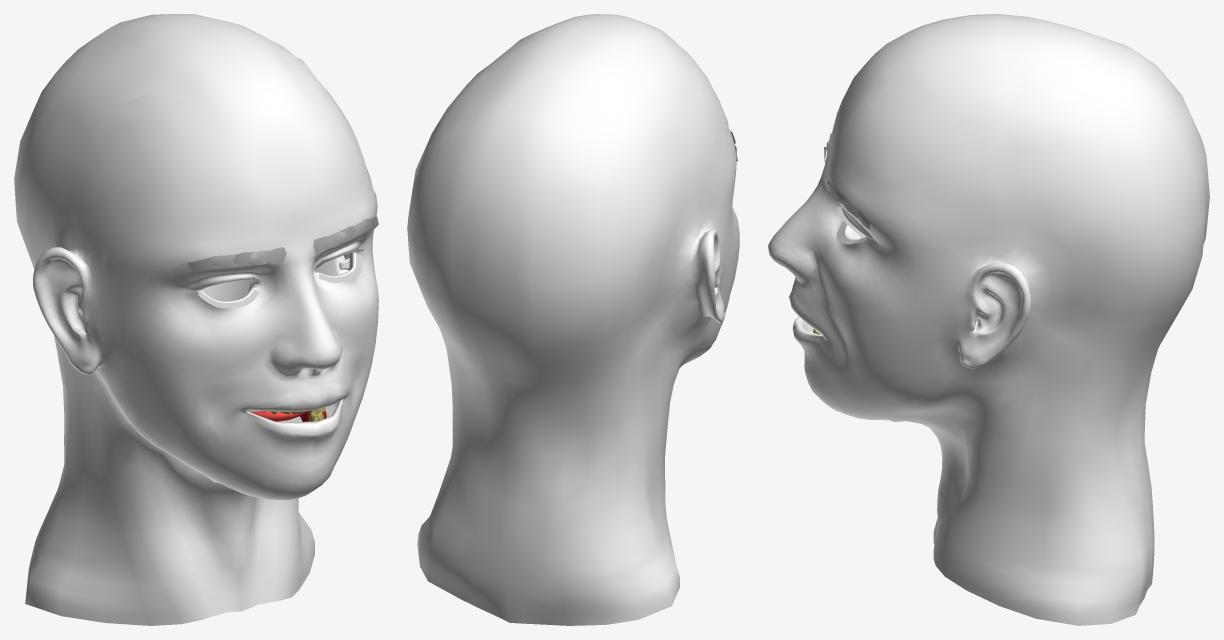
File: result2.obj
The picture shows the model from 3 angles, left to right: view 1: azimuth 30°, elevation 25°; view 2: azimuth 150°, elevation 25°; view 3: azimuth 270°, elevation 25°; orthographic projection. The views are drawn at different scales.
Parts seen in each view (by area): view 1: FaceMesh_Plane.003; view 2: FaceMesh_Plane.003; view 3: FaceMesh_Plane.003.
Part boxes in pixels (box(x1,y1,x2,y2)): FaceMesh_Plane.003: box(14, 14, 378, 625); FaceMesh_Plane.003: box(407, 14, 739, 625); FaceMesh_Plane.003: box(768, 14, 1209, 625).
Size of the model in its own units: 1.54 by 2.71 by 1.94.
Materials: 5 (1 with a texture image).
